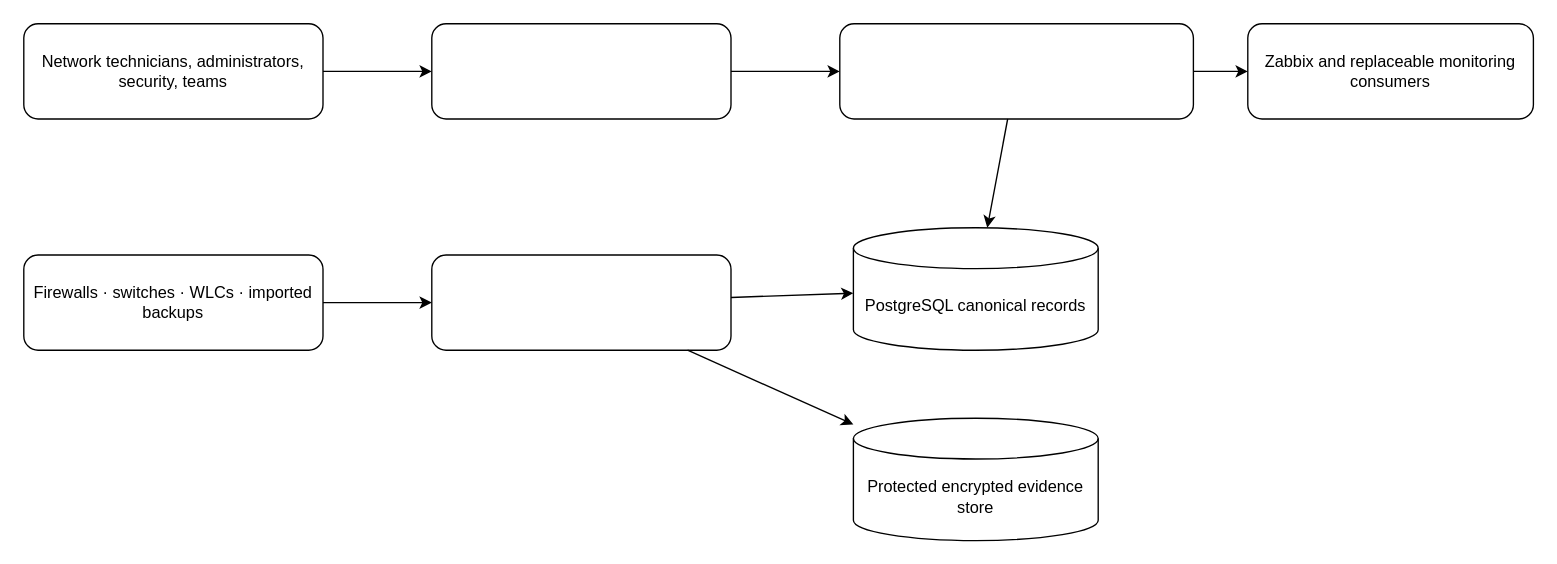
The diagram is 1557 pixels wide and 564 high, and some of its shapes have lost their labels. Here are the shapes that lost their labels. From the top down, the box of each, then its label:
(430, 22, 731, 119): Go HTML5 + API services
(838, 22, 1193, 119): Inventory · topology · projects · changes · approvals · findings
(430, 254, 731, 350): Authenticated ingestion and worker services
